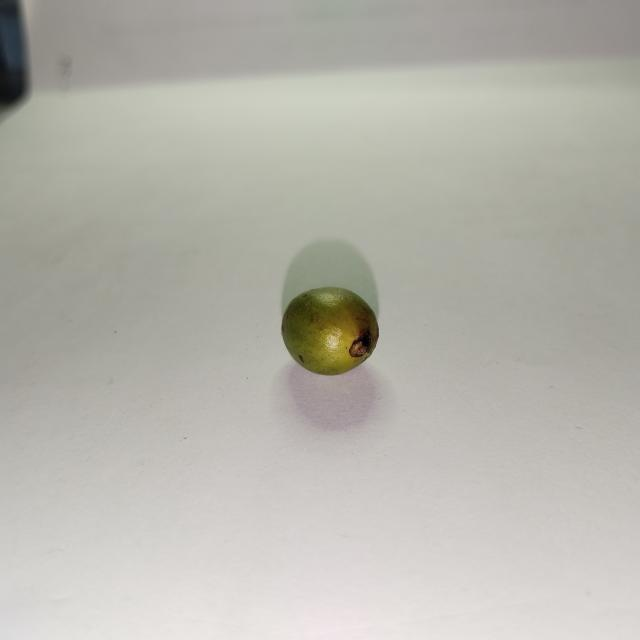Infectado: (282, 287, 380, 375)
